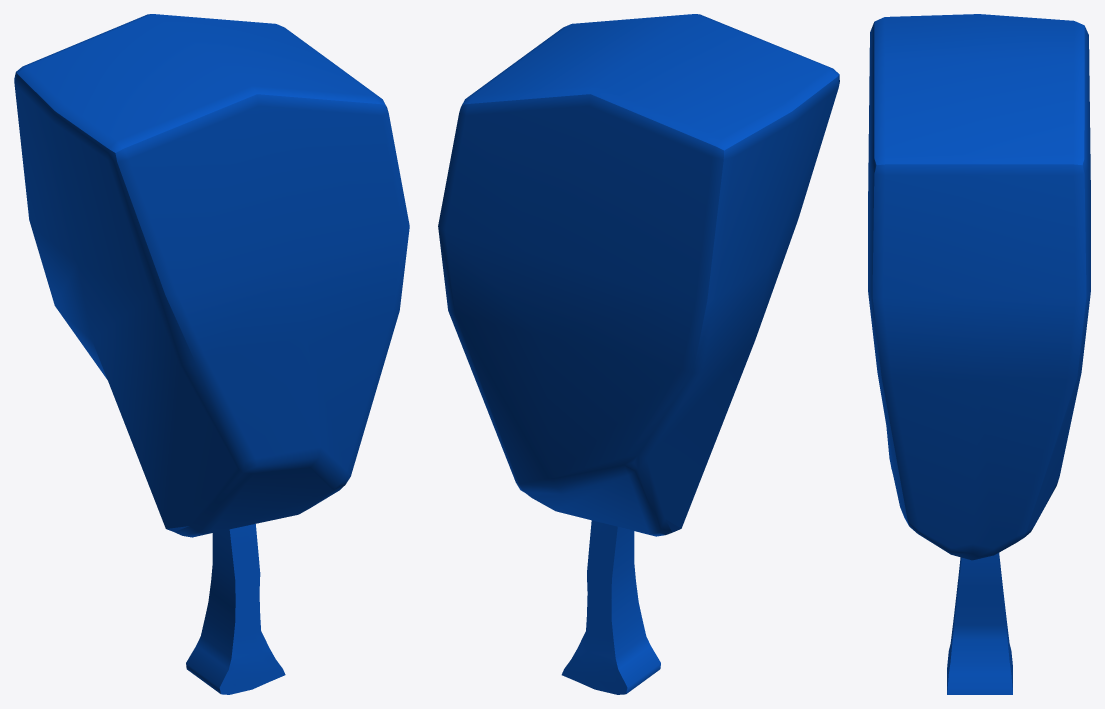
Rendered from BobaTreeOneFBX.fbx.
3 renders of one model, left to right at view 1: azimuth 30°, elevation 25°; view 2: azimuth 150°, elevation 25°; view 3: azimuth 270°, elevation 25°, orthographic. The views are drawn at different scales.
Parts seen in each view (by area): view 1: pasted__pCube4, pasted__pCube1; view 2: pasted__pCube4, pasted__pCube1; view 3: pasted__pCube4, pasted__pCube1.
Boxes of the visible parts, box(x1,y1,x2,y2) form: pasted__pCube4: box(14, 14, 409, 537); pasted__pCube1: box(186, 524, 285, 694); pasted__pCube4: box(438, 14, 839, 536); pasted__pCube1: box(561, 520, 660, 694); pasted__pCube4: box(868, 14, 1090, 560); pasted__pCube1: box(947, 553, 1012, 694).
Size of the model in its own units: 1.53 by 3.05 by 1.01.
